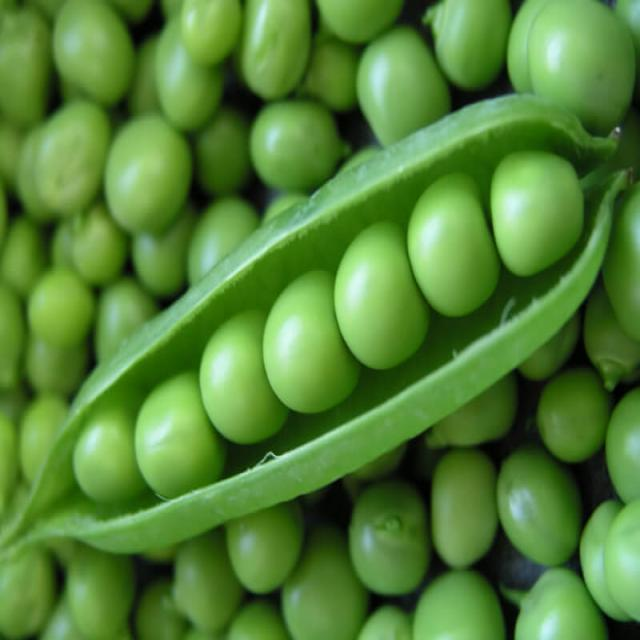pea: (6, 100, 629, 541), (262, 265, 366, 410), (334, 219, 428, 367), (406, 173, 500, 312), (492, 140, 584, 279), (200, 307, 292, 437), (136, 366, 222, 494), (75, 407, 136, 502)
